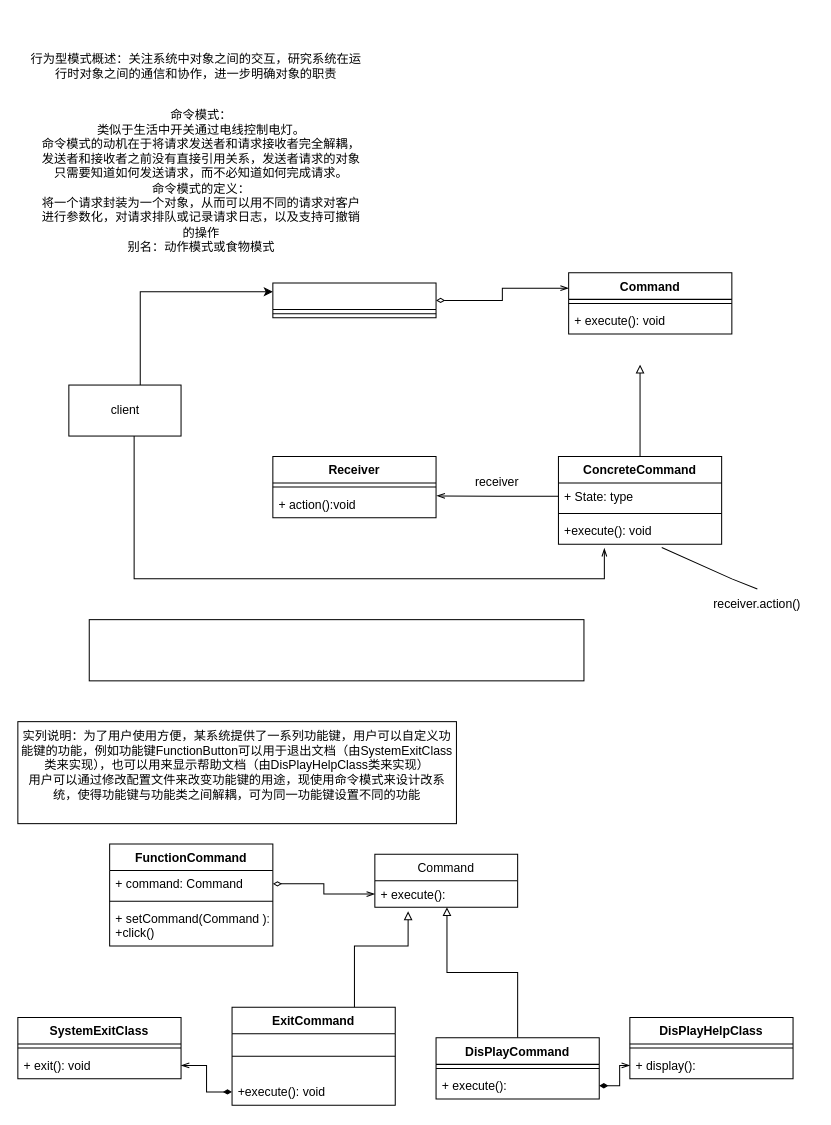
Some shapes in this 831 by 1125 pixel diagram are drawn without their labels. Each missing label, with the centre of its shape:
Invoker: the point at 354,300
命令模式包含4个角色：Command（抽象命令类） ConcreteConmand(具体命令类) Invoker(调用者) Receiver(接收者): the point at 336,650
